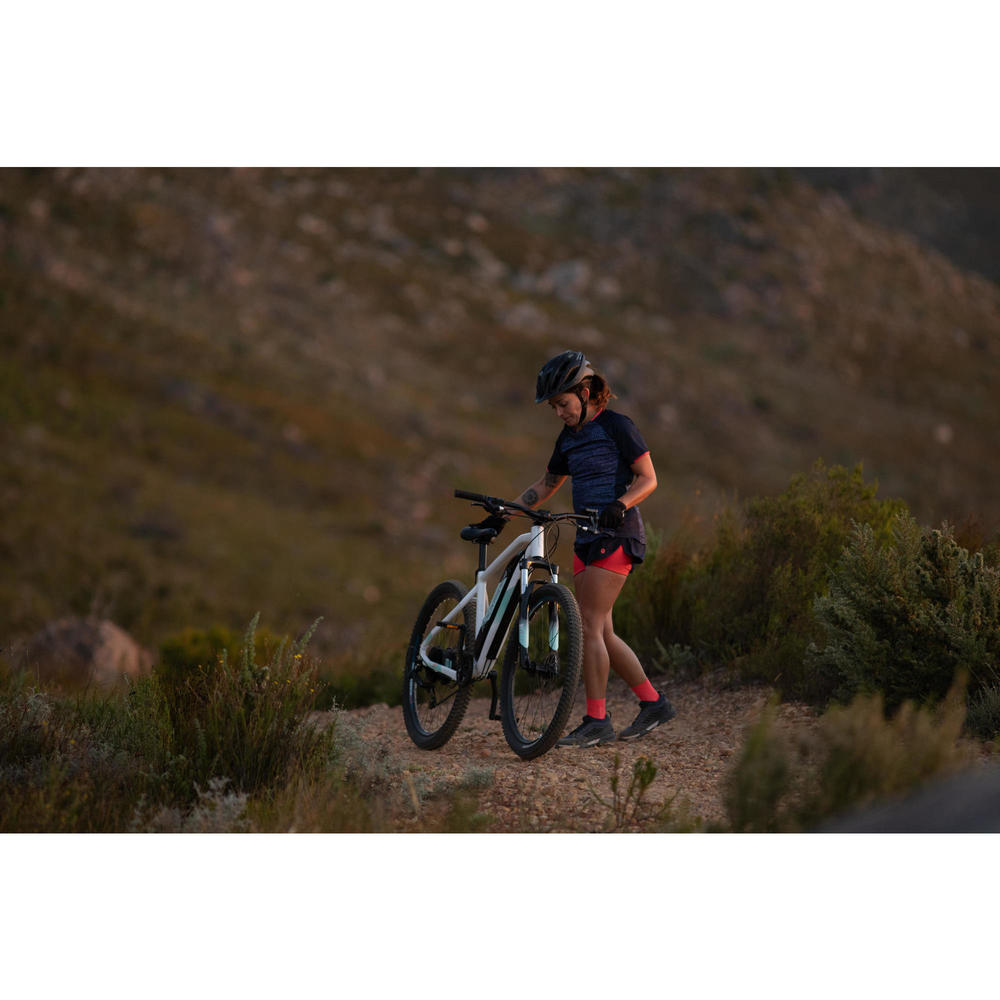MountainBike: (407, 465, 584, 755)
